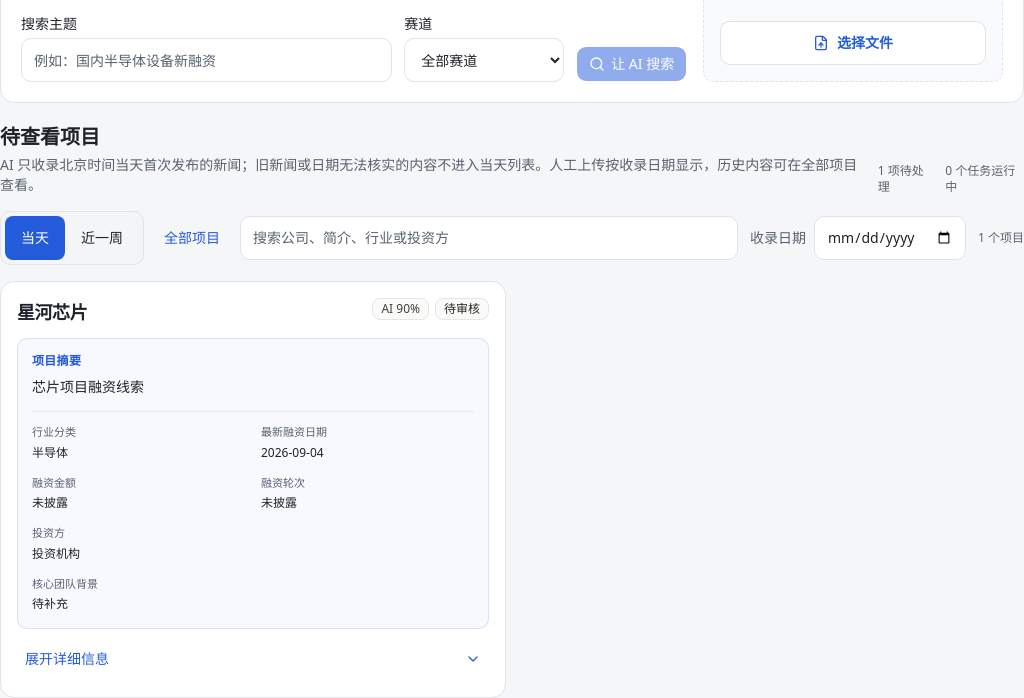
Test case: confirms assignment atomically and keeps the admitted project on its discovery card
(page scrolled)
Click the button with aria-label "查看项目详情": (67, 658) [17,637,489,681]
(page scrolled)
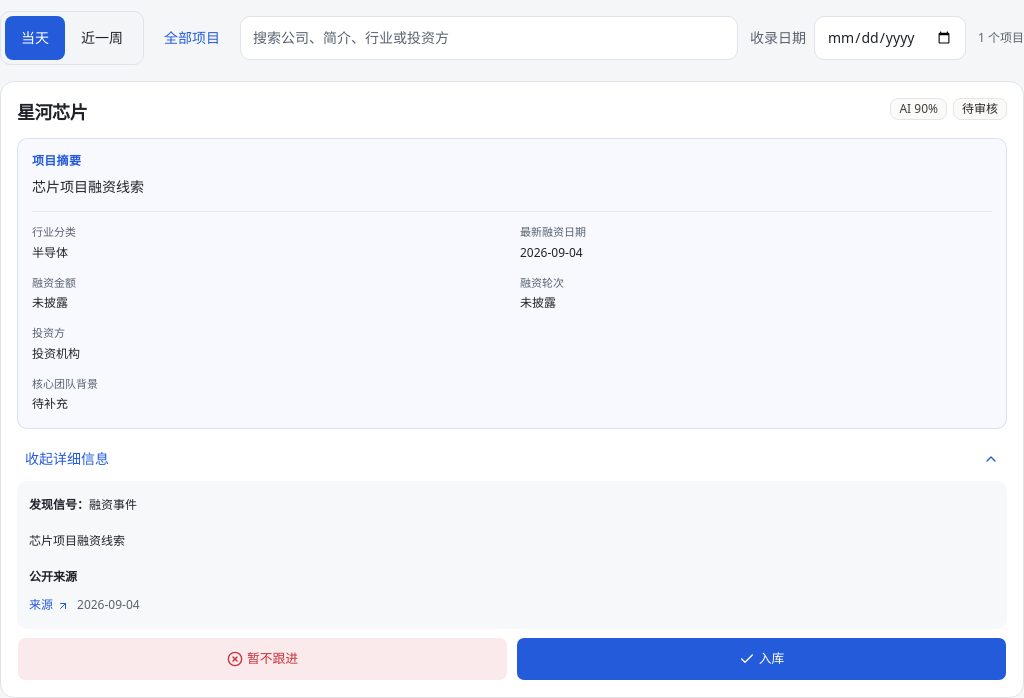
Click the button "入库": (762, 659) [516,637,1007,681]
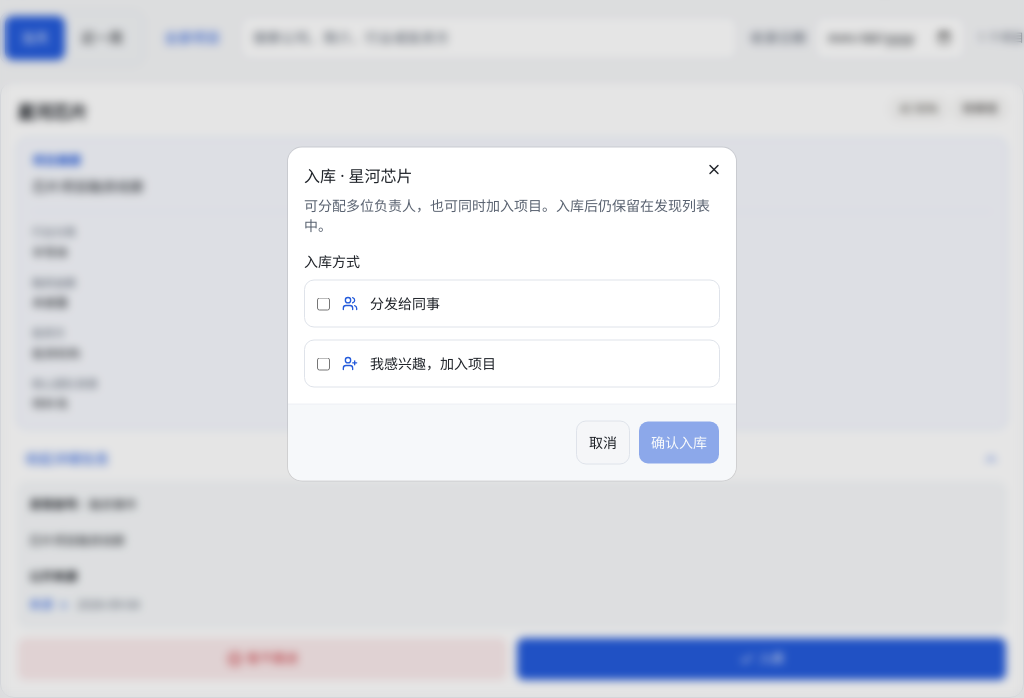
Click the checkbox labelled "分发给同事": (324, 304) [317,297,330,310]
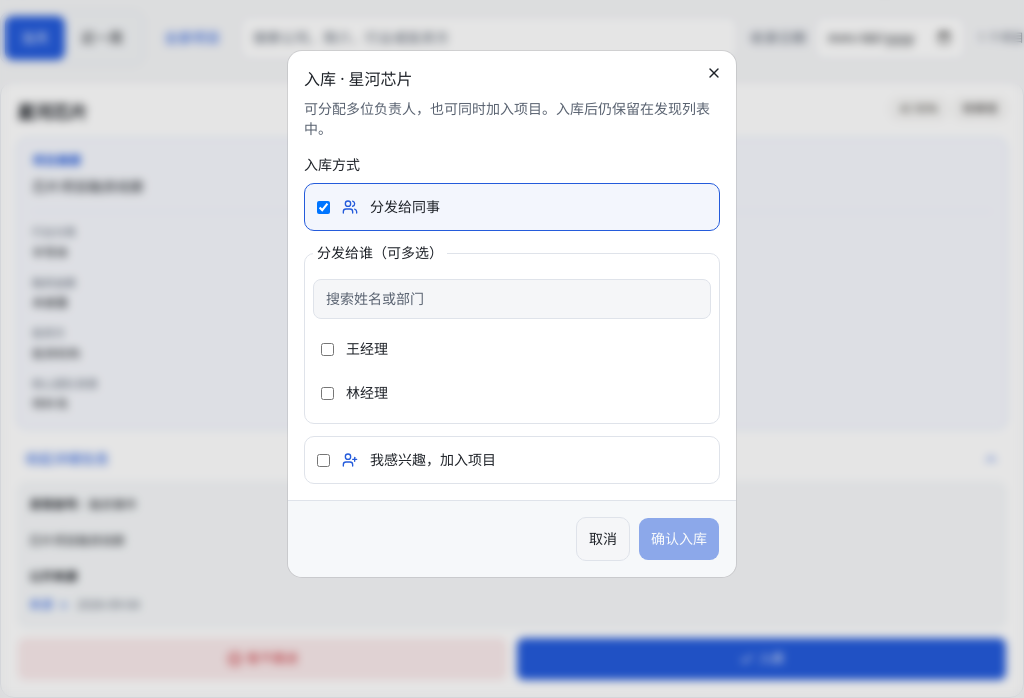
Click the checkbox labelled "林经理": (328, 393) [321,386,334,400]
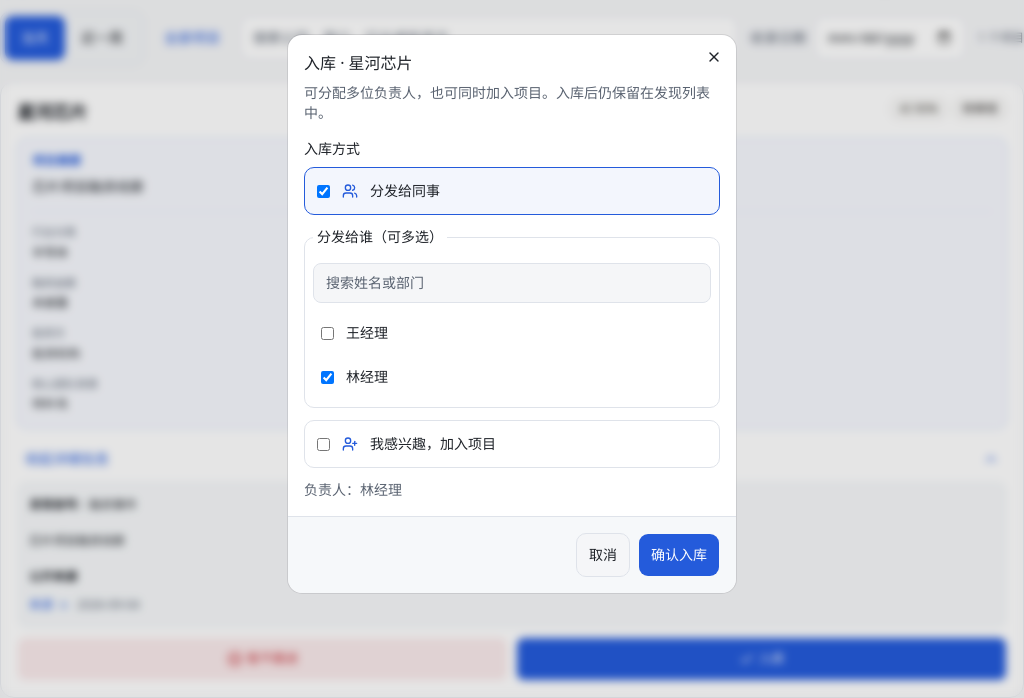
Click the button "确认入库": (679, 555) [638,533,720,577]
(page scrolled)
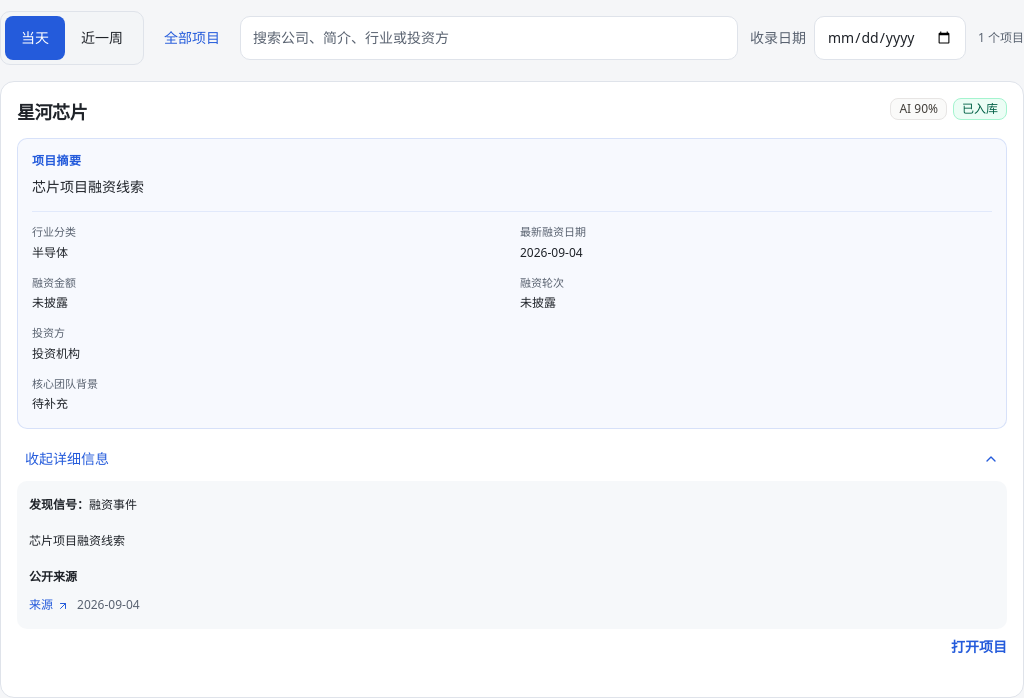
Expected: the heading "星河芯片" is shown, [17,98,87,126]
Expected: the text "已入库" is shown, [953,98,1007,120]
